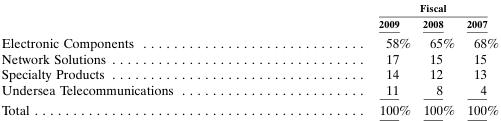table: (0, 1, 498, 117)
table column: (0, 1, 275, 117), (275, 1, 416, 117), (416, 1, 460, 117), (460, 1, 498, 117)
table column header: (0, 1, 498, 31)
table row: (0, 31, 498, 50), (0, 81, 498, 99), (0, 99, 498, 117), (0, 15, 498, 31), (0, 65, 498, 81), (0, 50, 498, 65), (0, 1, 498, 15)
table spanning cell: (275, 1, 498, 15)
